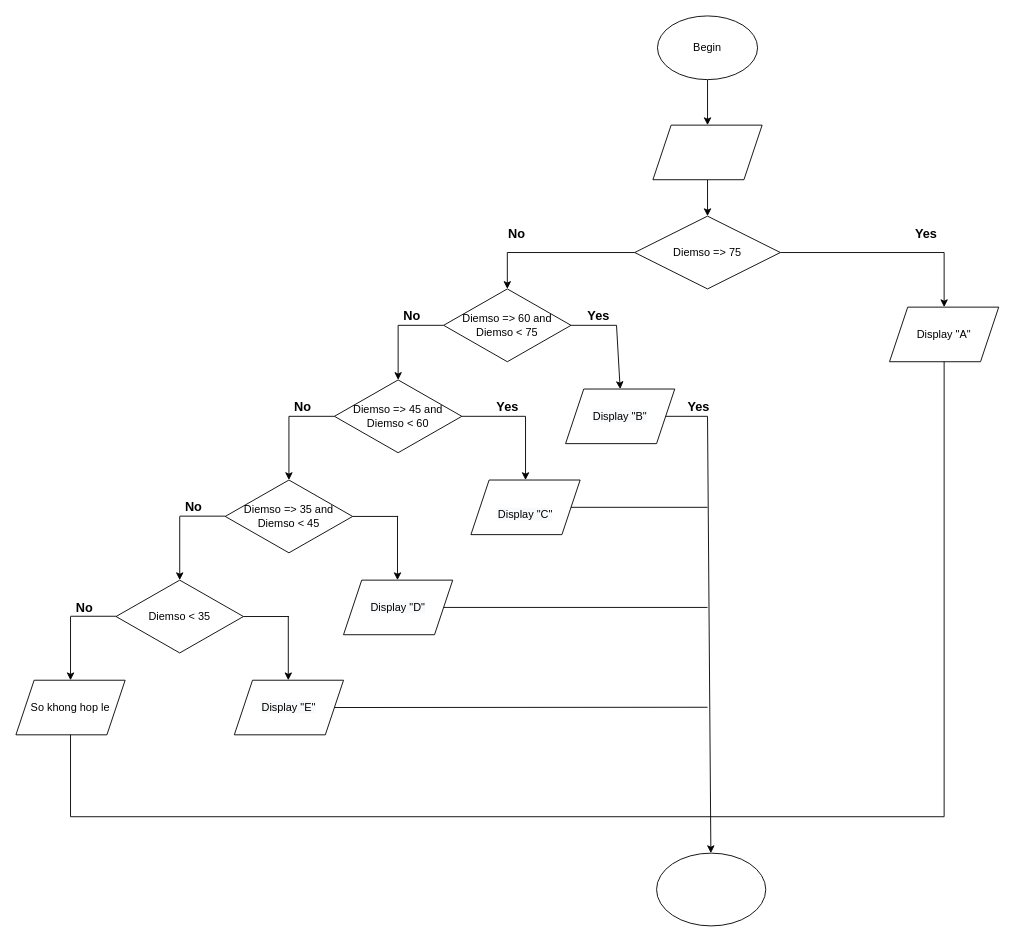
This 1015x942 diagram has some shape labels left out. Here are the shapes that lost their labels. From the top down, the centre of each, then its label:
[707,152]: Input Diemso
[711,889]: Stop
